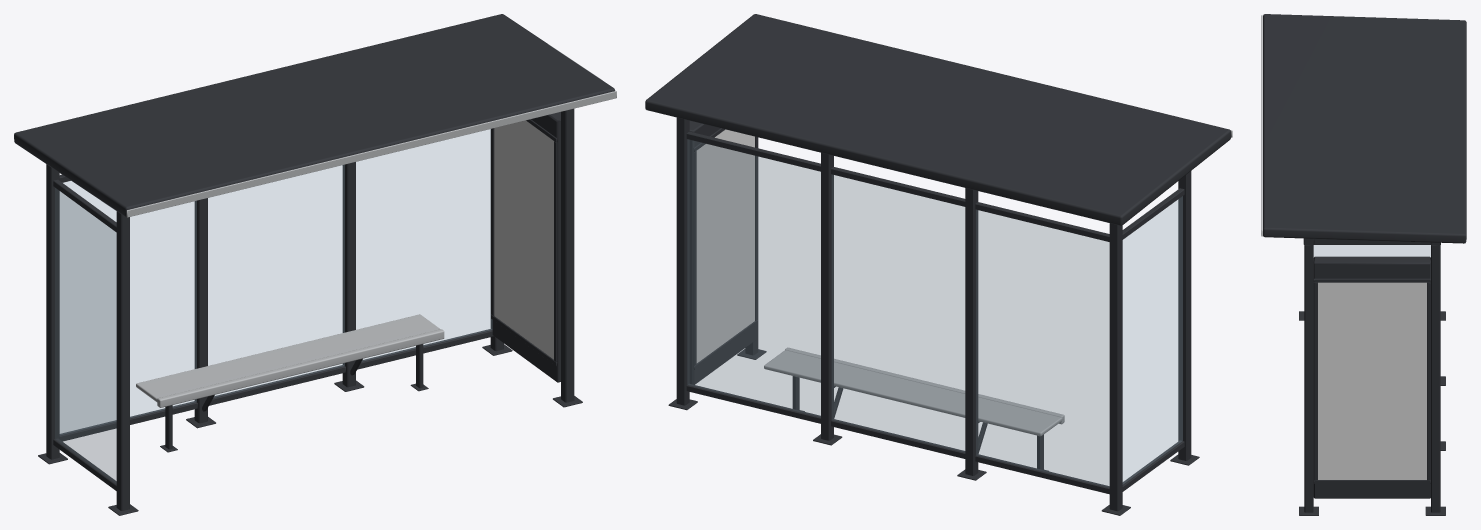
Rendered from bus_shelter.glb.
3 views of the same model, side by side, from view 1: azimuth 30°, elevation 25°; view 2: azimuth 150°, elevation 25°; view 3: azimuth 270°, elevation 25° (orthographic). The views are drawn at different scales.
Visible parts, largest first — view 1: bus_shelter; view 2: bus_shelter; view 3: bus_shelter.
Part boxes in pixels (box(x1,y1,x2,y2)): bus_shelter: box(14, 14, 616, 515); bus_shelter: box(645, 14, 1232, 515); bus_shelter: box(1261, 14, 1466, 515).
Bounding box in the file's own units: 4.3 × 2.73 × 1.73.
